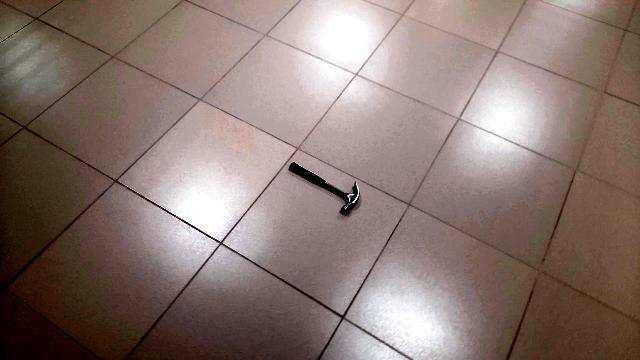hammer: (284, 162, 362, 216)
